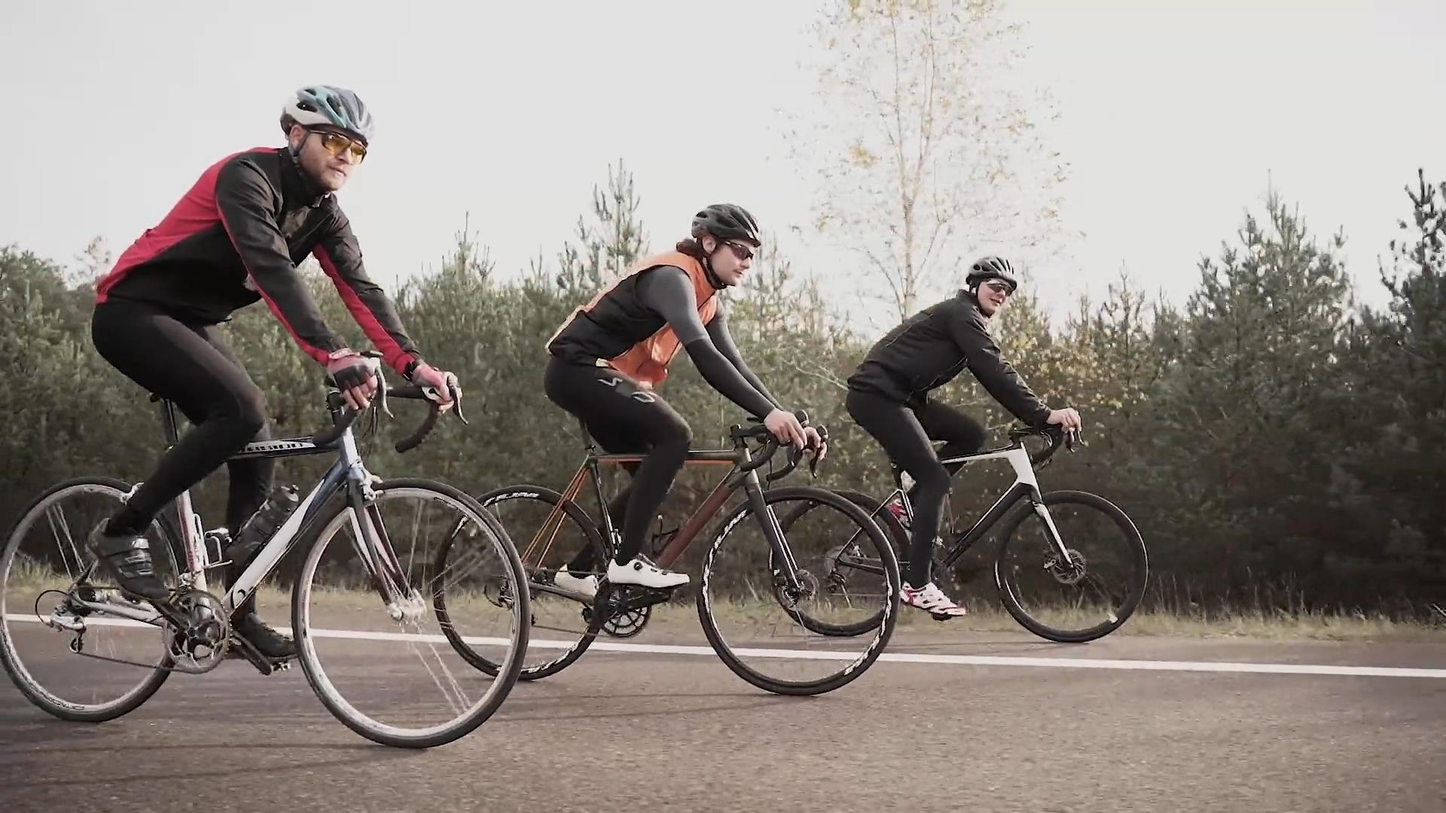bicyclist: (1, 82, 535, 749), (435, 200, 902, 699), (768, 253, 1149, 644)
helmet: (281, 84, 375, 192), (691, 202, 764, 287), (965, 255, 1018, 319)
